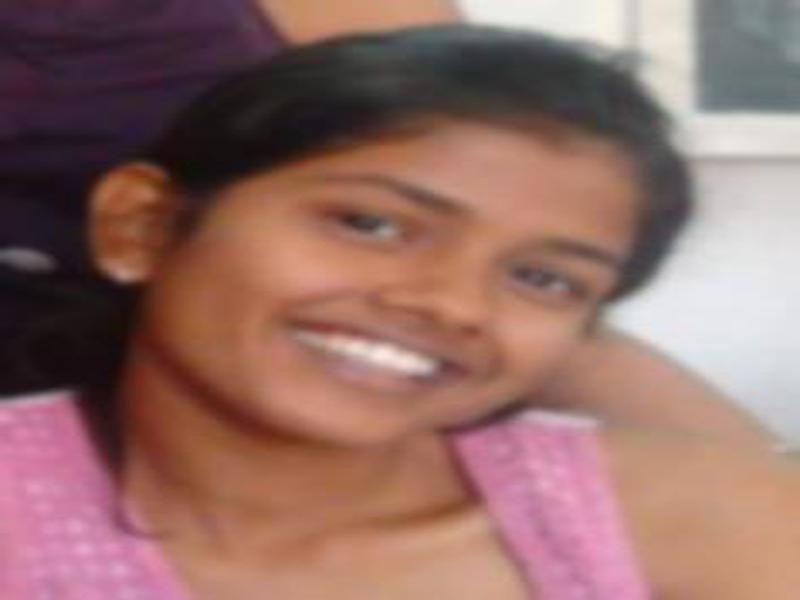without_mask: (176, 85, 631, 444)
